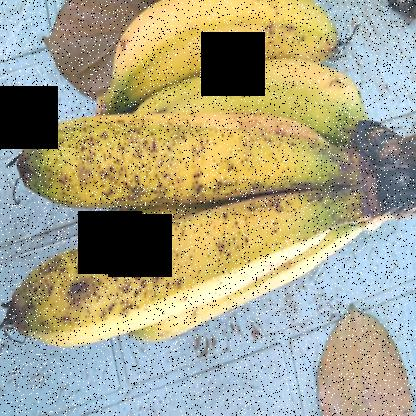ripe: (14, 200, 350, 356), (4, 98, 349, 204), (98, 1, 358, 93)
